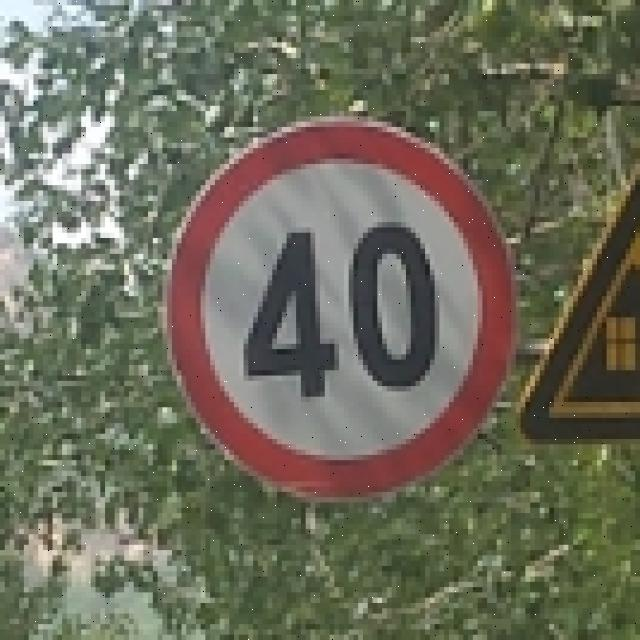speed limit 40: (166, 119, 517, 505)
